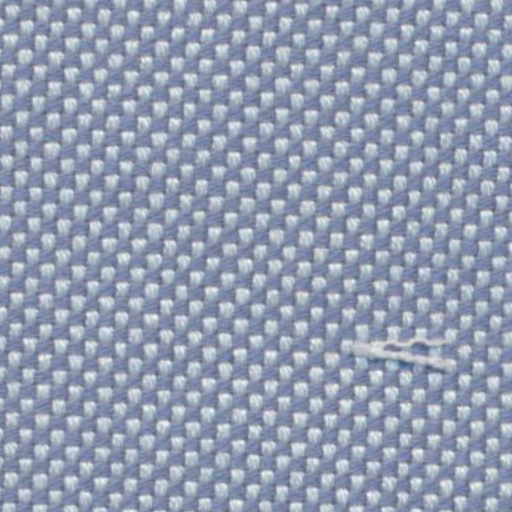DuanSha: (324, 314, 468, 396)
